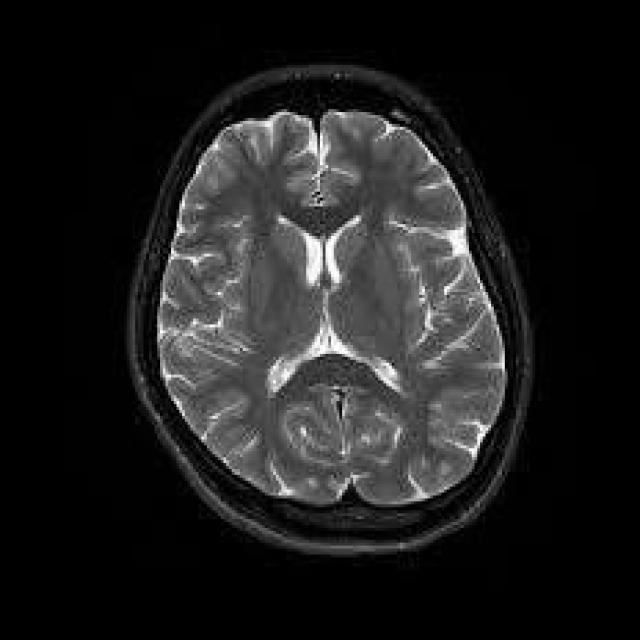no-tumor: (201, 164, 461, 483)
